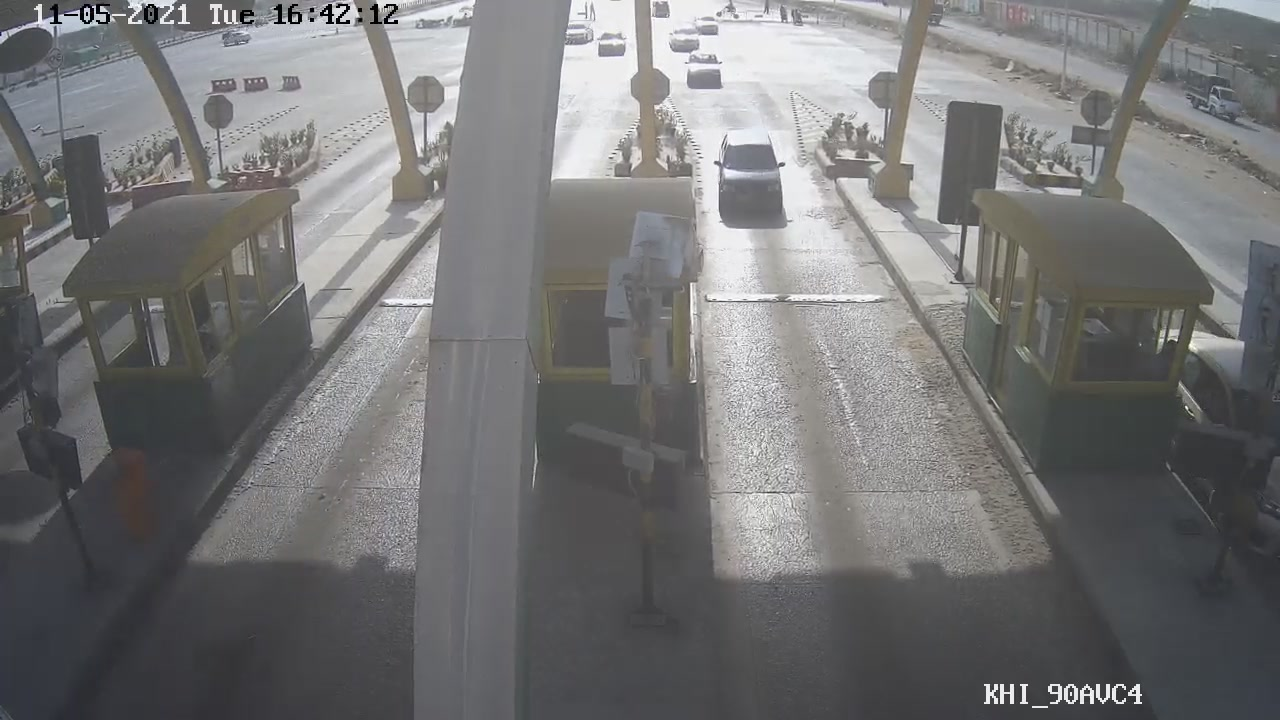F1: (711, 123, 803, 227)
